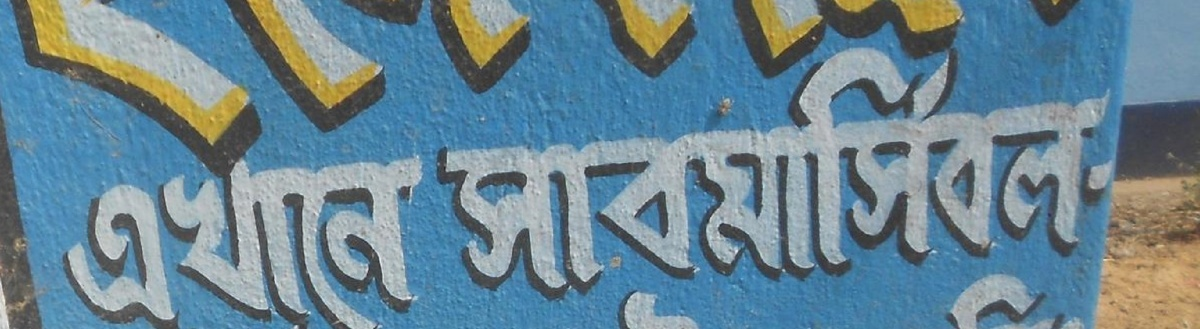text: (417, 26, 432, 304), (433, 26, 448, 304), (449, 26, 464, 304), (465, 26, 480, 304), (481, 26, 496, 304), (497, 26, 512, 304), (513, 26, 528, 304), (529, 26, 544, 304), (545, 26, 560, 304), (561, 26, 576, 304), (577, 26, 592, 304), (593, 26, 608, 304), (609, 26, 624, 304), (625, 26, 640, 304), (641, 26, 656, 304), (657, 26, 672, 304), (673, 26, 688, 304), (689, 26, 704, 304), (705, 26, 720, 304), (721, 26, 736, 304), (737, 26, 752, 304), (753, 26, 768, 304), (769, 26, 784, 304), (785, 26, 800, 304), (801, 26, 816, 304), (817, 26, 832, 304), (833, 26, 848, 304), (849, 26, 864, 304), (865, 26, 880, 304), (881, 26, 896, 304), (897, 26, 912, 304), (913, 26, 928, 304), (929, 26, 944, 304), (945, 26, 960, 304), (961, 26, 976, 304), (977, 26, 992, 304), (993, 26, 1008, 304), (1009, 26, 1024, 304), (1025, 26, 1040, 304), (1041, 26, 1056, 304), (1057, 26, 1072, 304), (1073, 26, 1088, 304), (1089, 26, 1104, 304), (1105, 26, 1120, 304), (65, 144, 80, 326), (81, 144, 96, 326), (97, 144, 112, 326), (113, 144, 128, 326), (129, 144, 144, 326), (145, 144, 160, 326), (161, 144, 176, 326), (177, 144, 192, 326), (193, 144, 208, 326), (209, 144, 224, 326), (225, 144, 240, 326), (241, 144, 256, 326), (257, 144, 272, 326), (273, 144, 288, 326), (289, 144, 304, 326), (305, 144, 320, 326), (321, 144, 336, 326), (337, 144, 352, 326), (353, 144, 368, 326), (369, 144, 384, 326), (385, 144, 400, 326), (401, 144, 416, 326), (417, 144, 432, 326), (17, 1, 32, 176), (33, 1, 48, 176), (49, 1, 64, 176), (65, 1, 80, 176), (81, 1, 96, 176), (97, 1, 112, 176), (113, 1, 128, 176), (129, 1, 144, 176), (145, 1, 160, 176), (161, 1, 176, 176), (177, 1, 192, 176), (193, 1, 208, 176), (209, 1, 224, 176), (225, 1, 240, 176), (241, 1, 256, 176), (257, 1, 272, 176), (273, 1, 288, 176), (289, 1, 304, 176), (305, 1, 320, 176), (321, 1, 336, 176), (337, 1, 352, 176), (353, 1, 368, 176), (369, 1, 384, 176), (385, 1, 400, 176), (401, 1, 416, 176), (417, 1, 432, 176), (433, 1, 448, 176), (449, 1, 464, 176), (465, 1, 480, 176), (481, 1, 496, 176), (497, 1, 512, 176), (513, 1, 528, 176), (529, 1, 544, 176), (545, 1, 560, 176), (561, 1, 576, 176), (577, 1, 592, 176), (593, 1, 608, 176), (2, 1, 16, 176), (408, 26, 416, 304), (52, 144, 64, 326), (433, 144, 441, 326), (593, 1, 608, 88), (609, 1, 624, 88), (625, 1, 640, 88), (641, 1, 656, 88), (657, 1, 672, 88), (673, 1, 688, 88), (689, 1, 704, 88), (705, 1, 720, 88), (721, 1, 736, 88), (737, 1, 752, 88), (753, 1, 768, 88), (769, 1, 784, 88), (785, 1, 800, 88), (801, 1, 816, 88), (817, 1, 832, 88), (833, 1, 848, 88), (849, 1, 864, 88), (865, 1, 880, 88), (881, 1, 896, 88), (897, 1, 912, 88), (913, 1, 928, 88), (929, 1, 944, 88), (945, 1, 960, 88), (961, 1, 976, 88), (977, 1, 992, 88), (993, 1, 1008, 88), (1009, 1, 1024, 88), (1025, 1, 1040, 88), (1041, 1, 1056, 88), (1057, 1, 1072, 88), (1073, 1, 1087, 88), (609, 1, 615, 176), (961, 273, 976, 329), (977, 273, 992, 329), (993, 273, 1008, 329), (1009, 273, 1024, 329), (1025, 273, 1040, 329), (1041, 273, 1056, 329), (1057, 273, 1072, 329), (946, 273, 960, 329), (1073, 273, 1084, 329), (625, 293, 640, 329), (641, 293, 656, 329), (657, 293, 672, 329), (673, 293, 688, 329), (689, 293, 697, 329), (1121, 26, 1122, 304), (591, 1, 592, 88)
